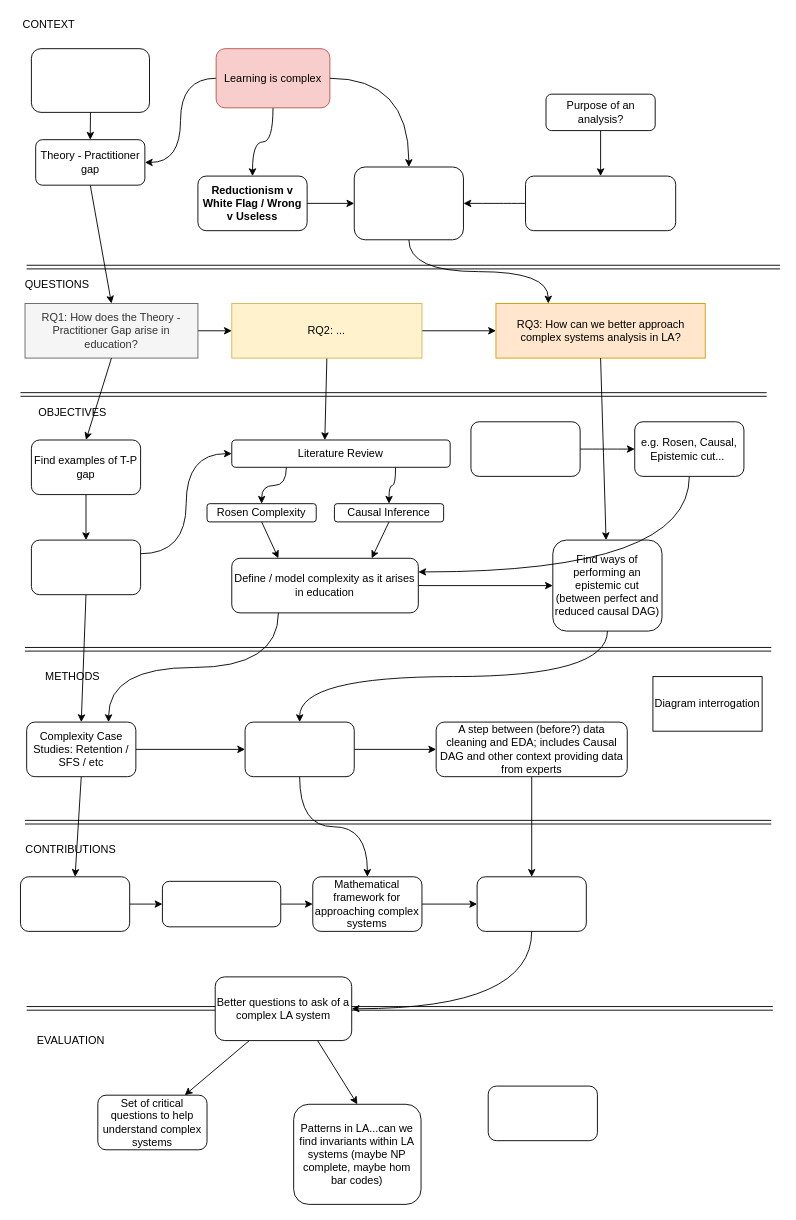
This 796x1220 diagram has some shape labels left out. Here are the shapes that lost their labels. From the top down, the centre of each, then its label:
At [90,80]: "Literature Review / Justifying T-P Gap...todo".
At [408,203]: "Confusion in communication and decision making around complex LA systems".
At [600,203]: "What questions are being asked (currently) of LA systems?".
At [525,448]: "Catalogue methods for dealing with complexity".
At [85,567]: "Classify where T-P gap is occurring. When is it because of complexity?".
At [299,749]: "Diagnosing epistemic cuts in a complex system".
At [75,903]: "Defining the Theory - Practitioner gap".
At [221,903]: "Complexity model within the field of LA".
At [531,903]: "Mathematical framework for embedding 'context' in analysis".
At [542,1113]: "Causal model embedded in CSU retention work".
